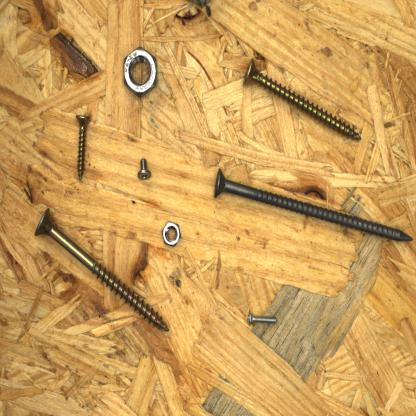screw: (33, 200, 172, 334), (212, 165, 415, 247), (242, 54, 365, 145), (73, 111, 93, 183), (134, 154, 154, 184), (245, 310, 278, 328)
